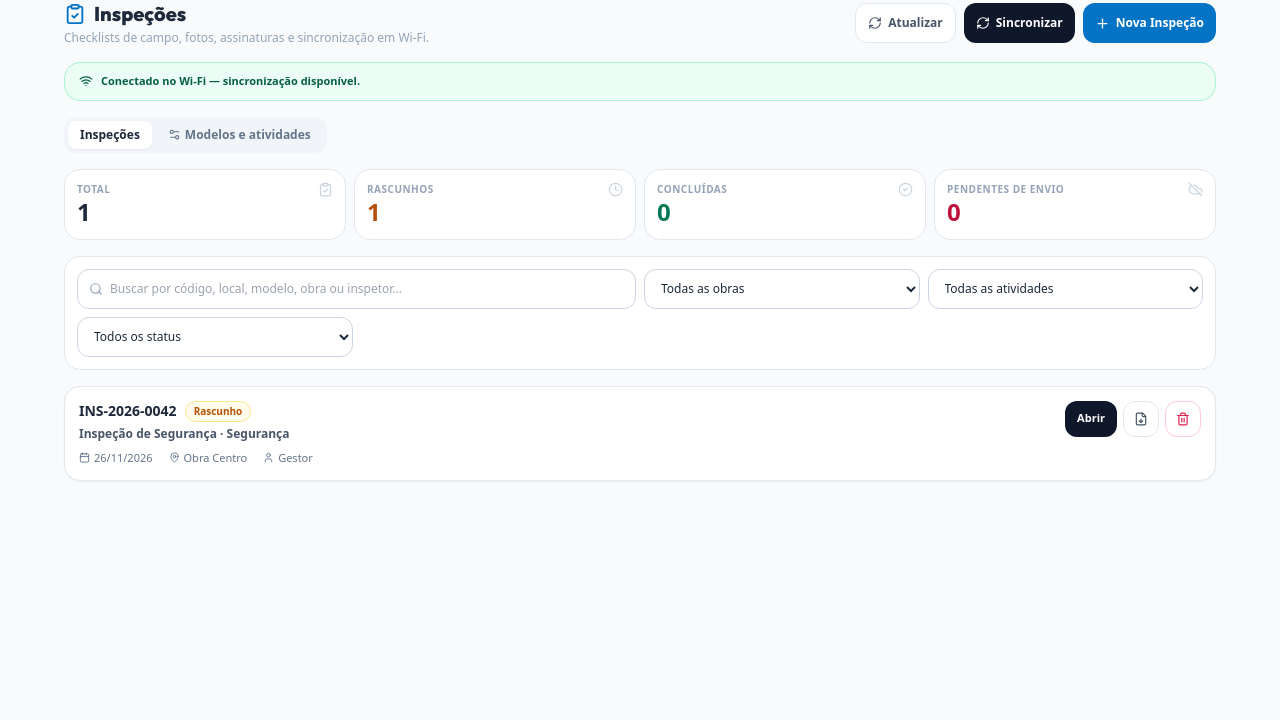
Scenario: Inspecoes › exclui no servidor e remove a cópia local da inspeção
Click the button titled "Excluir" at x=1183, y=418, box [1165, 400, 1201, 436]
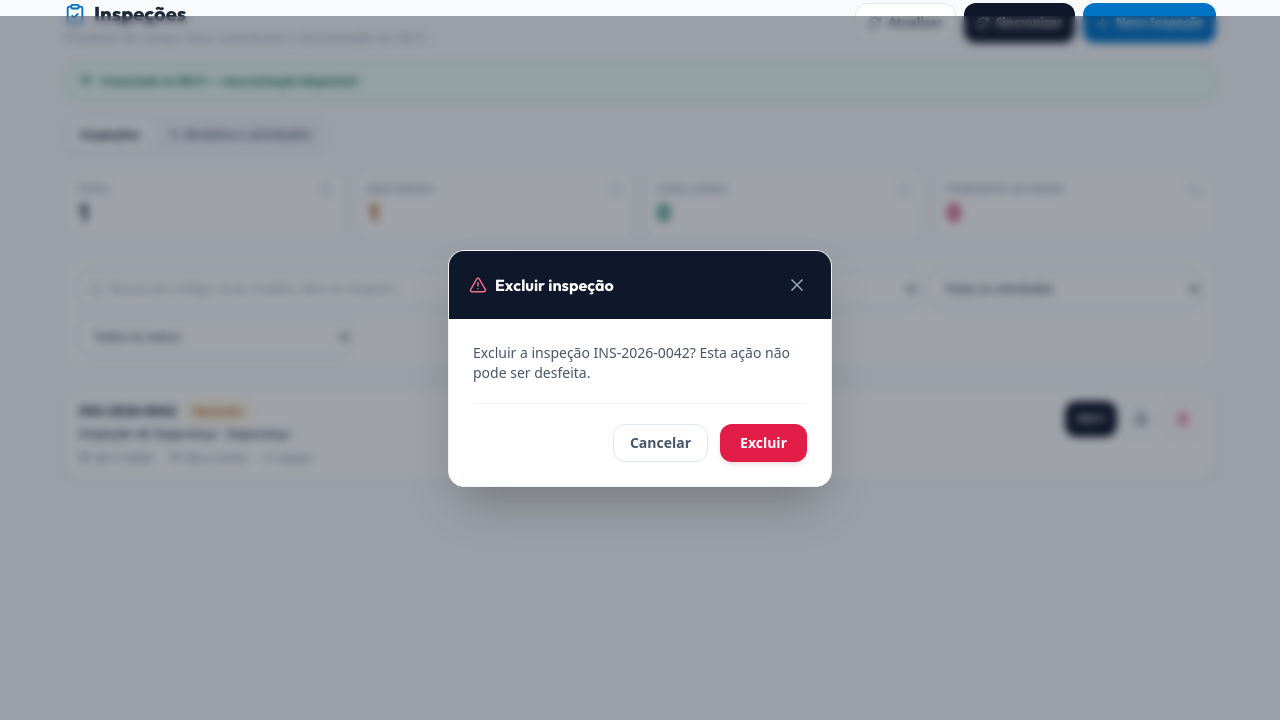
Click the button "Excluir" at x=764, y=442, box [720, 424, 807, 462]
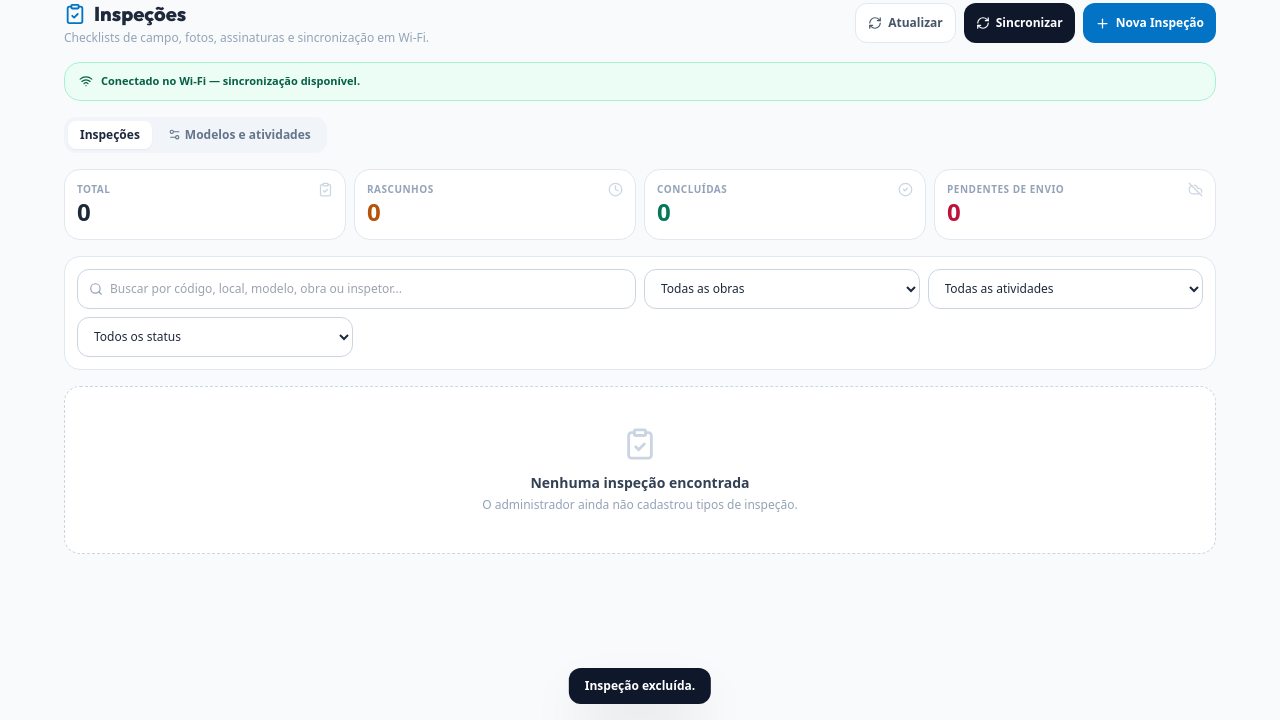
Check: the text "INS-2026-0042" is gone
